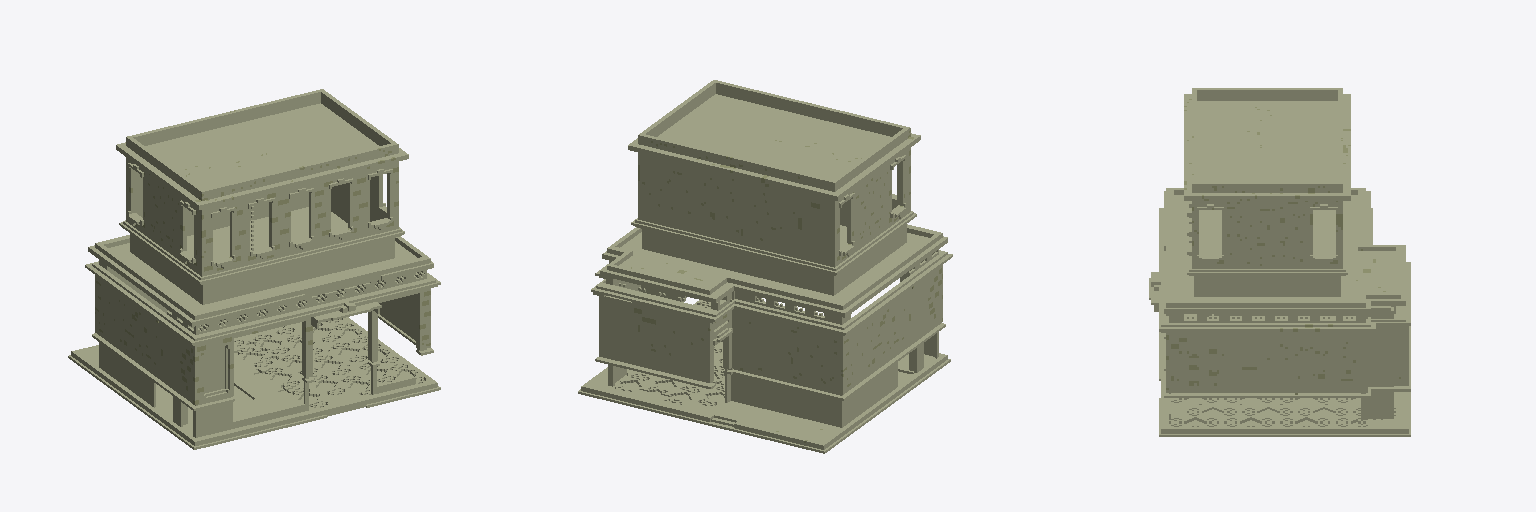
3 views of the same model, side by side, from view 1: azimuth 30°, elevation 25°; view 2: azimuth 150°, elevation 25°; view 3: azimuth 270°, elevation 25° (orthographic).
Visible parts, largest first — view 1: havana_building; view 2: havana_building; view 3: havana_building.
Part boxes in pixels (left/top/right/bottom): havana_building: left=68, top=89, right=440, bottom=449; havana_building: left=578, top=80, right=952, bottom=453; havana_building: left=1149, top=88, right=1410, bottom=436.
Bounding box in the file's own units: 114 × 105 × 104.
Materials: 1 (1 with a texture image).